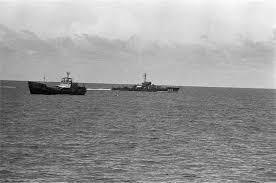MIL_Ship: (26, 70, 91, 96), (111, 71, 182, 94)
